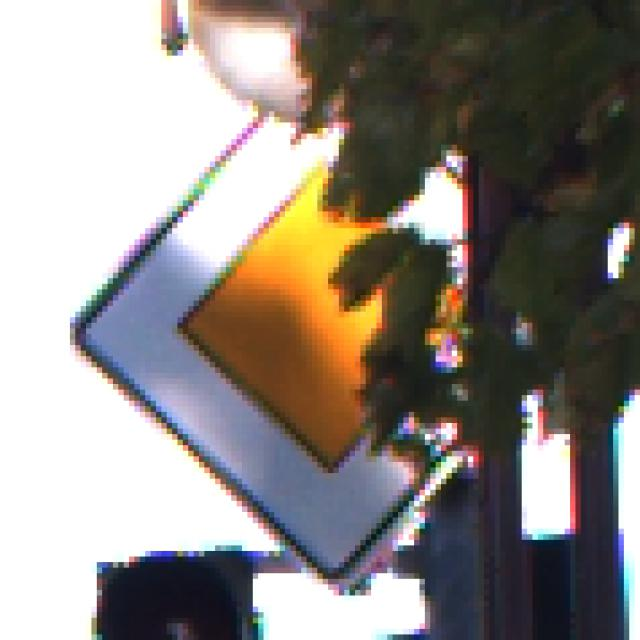Main Road: (60, 57, 587, 585)
